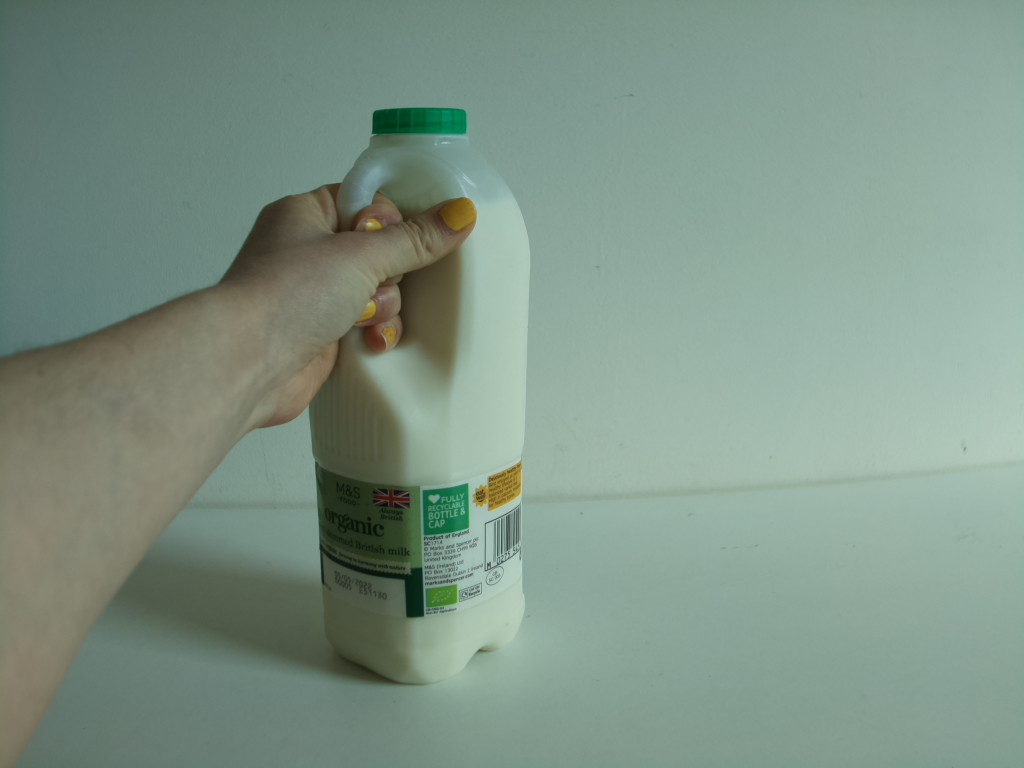milk: (303, 98, 542, 691)
